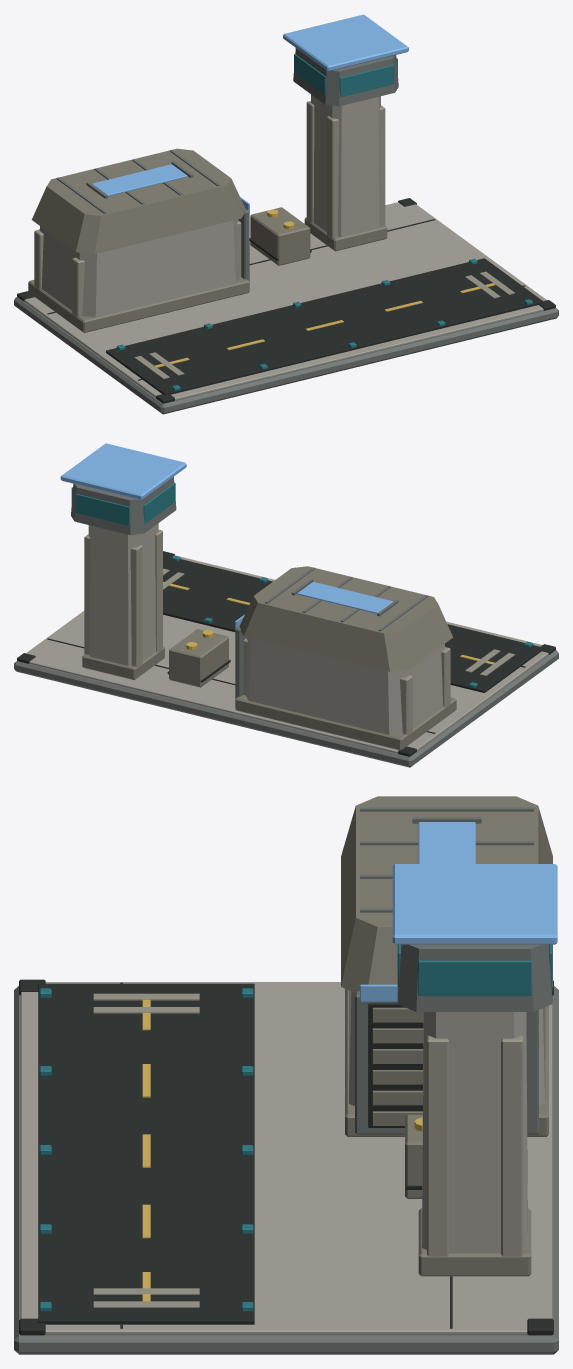
File: airfield.glb
3 renders of one model, top to bottom at view 1: azimuth 30°, elevation 25°; view 2: azimuth 150°, elevation 25°; view 3: azimuth 270°, elevation 25°, orthographic. The views are drawn at different scales.
Visible parts, largest first — view 1: airfield; view 2: airfield; view 3: airfield.
Boxes of the visible parts, box(x1,y1,x2,y2) form: airfield: box(14, 14, 558, 414); airfield: box(14, 443, 558, 767); airfield: box(14, 796, 558, 1354).
Size of the model in its own units: 5.7 by 2.84 by 3.7.
